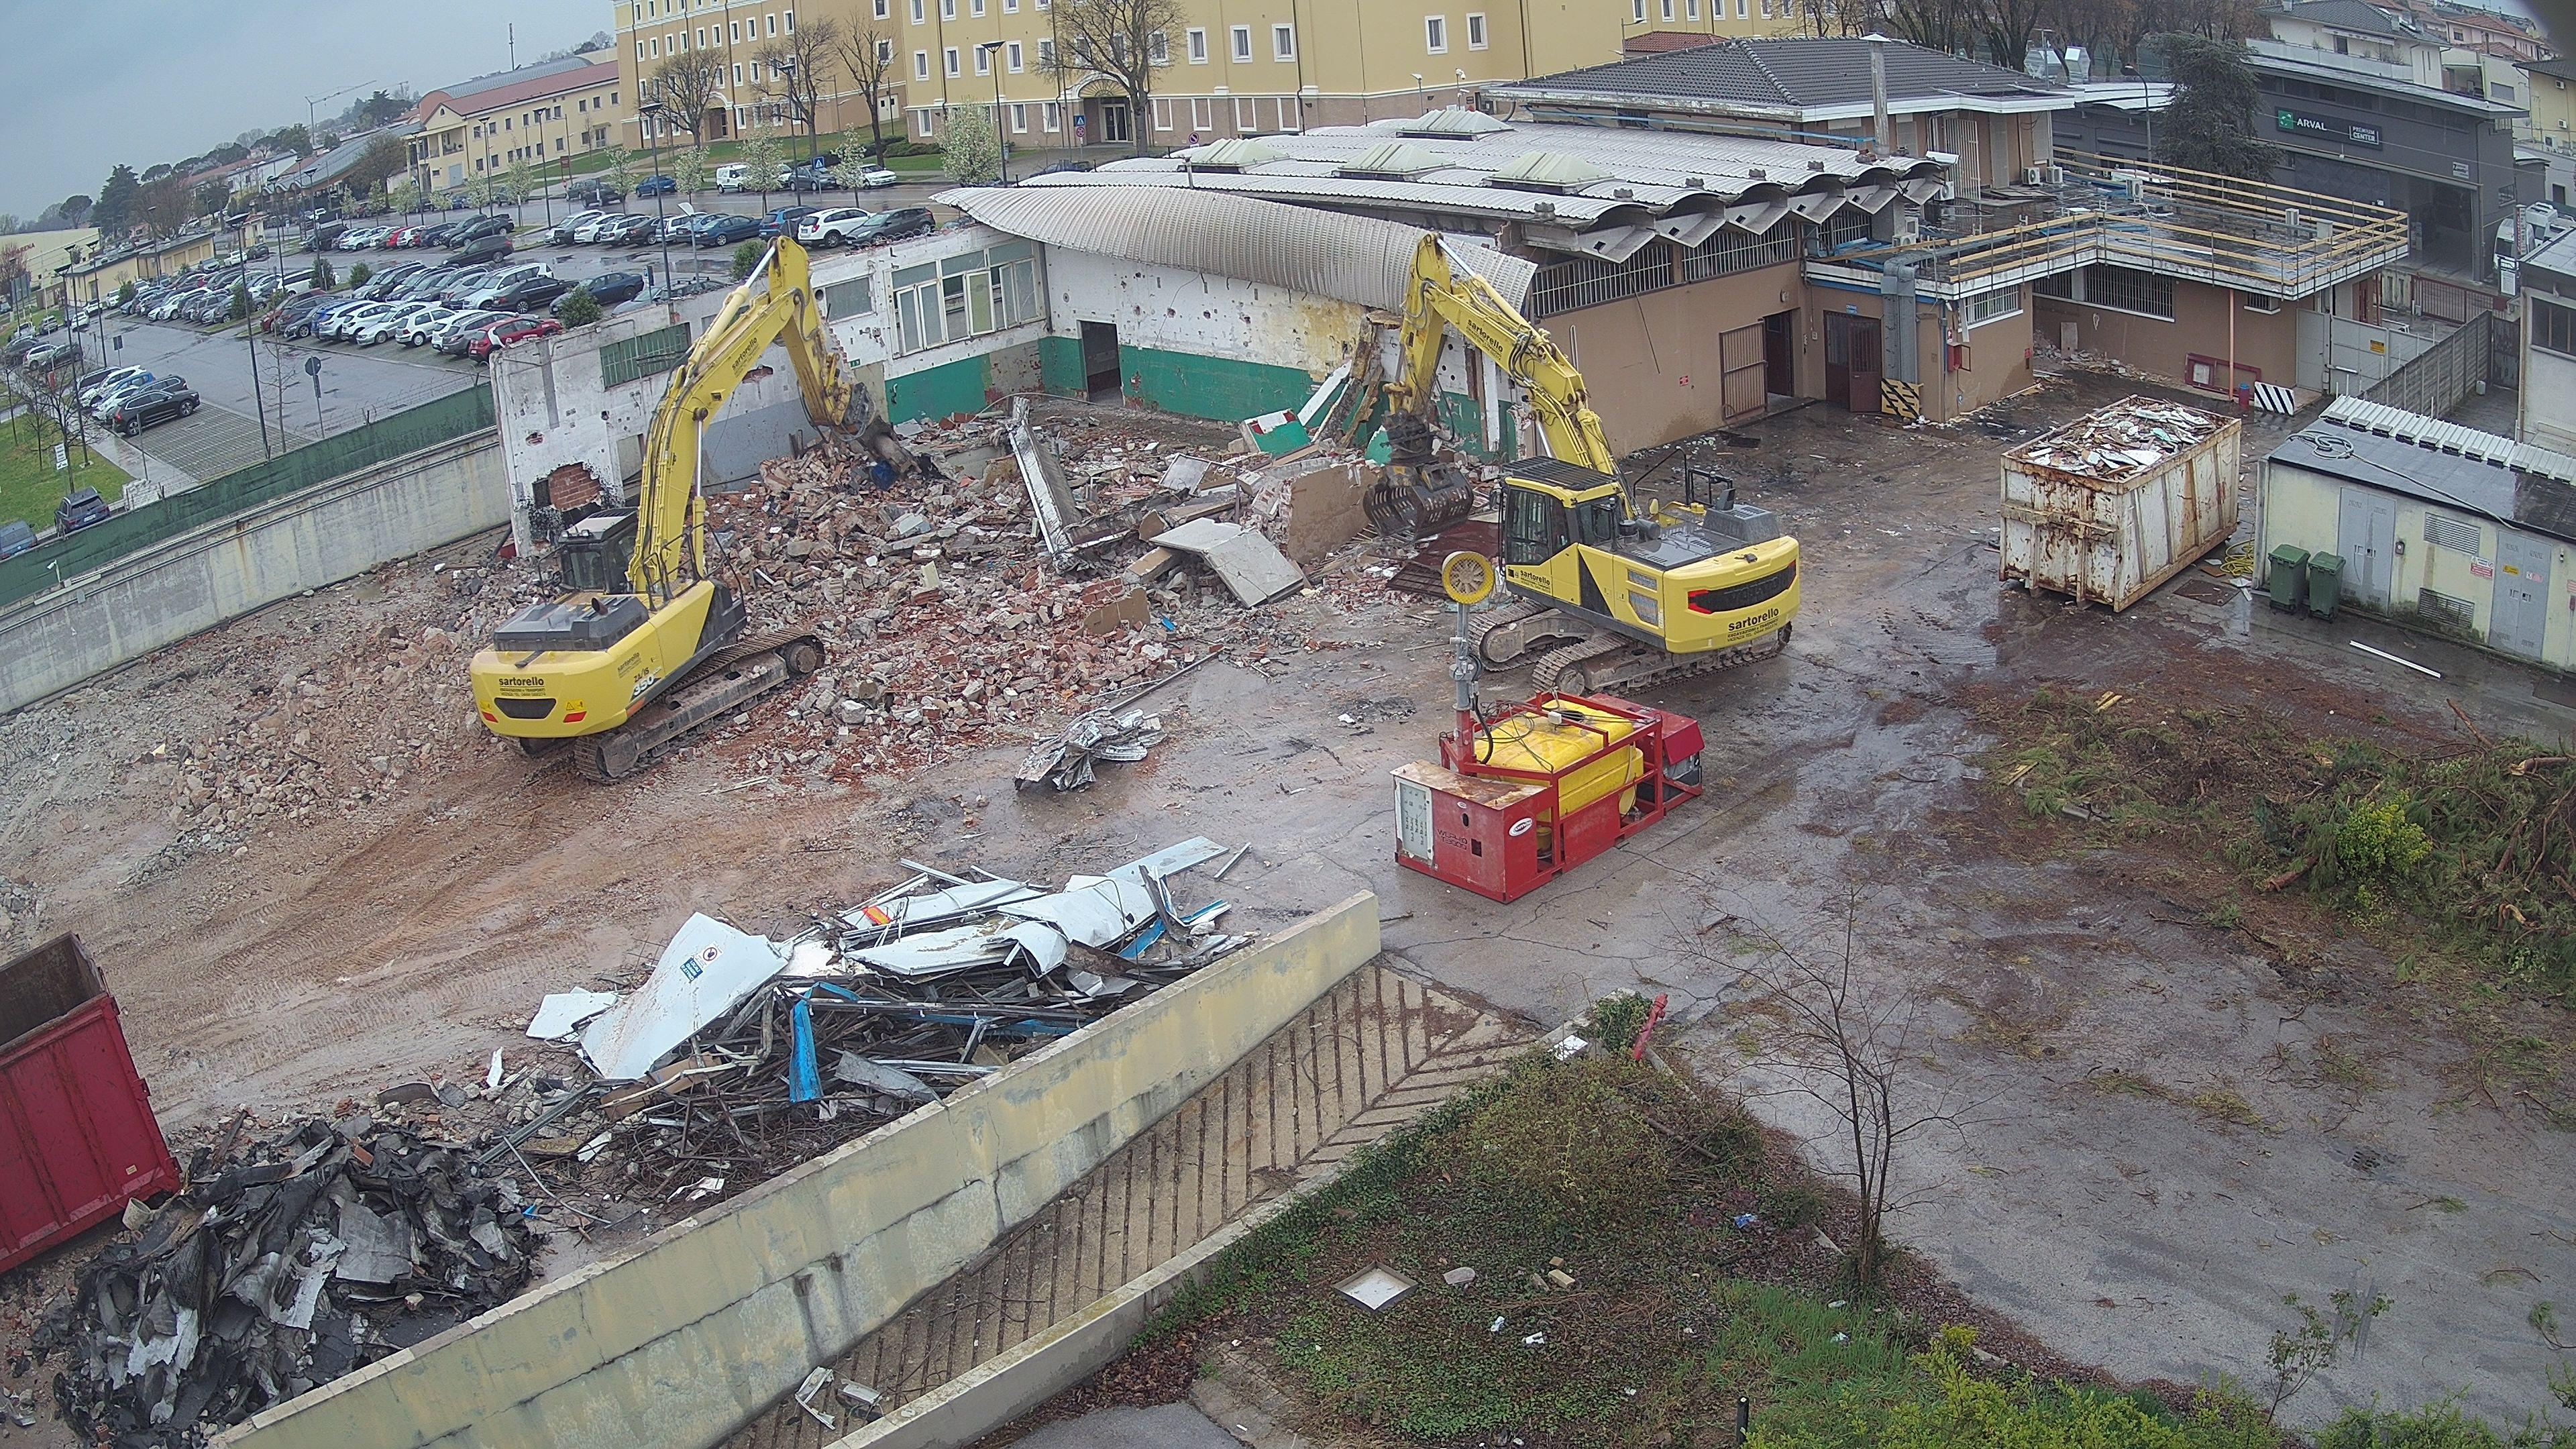Cars: (547, 271, 644, 317), (471, 315, 563, 363), (442, 311, 538, 356), (111, 389, 200, 435), (356, 301, 444, 345), (846, 207, 934, 248), (796, 207, 878, 249), (53, 487, 111, 536), (395, 308, 471, 345), (340, 303, 403, 340), (442, 235, 515, 267), (694, 214, 764, 246), (759, 207, 819, 244), (449, 218, 517, 246), (786, 165, 842, 191), (37, 341, 83, 373), (715, 163, 755, 193), (580, 180, 625, 207), (23, 345, 58, 372), (635, 173, 674, 196), (223, 249, 248, 269), (196, 257, 219, 274), (246, 242, 269, 260), (71, 311, 90, 331), (39, 315, 58, 334), (83, 299, 103, 315)
excavator: (469, 235, 924, 782), (1362, 228, 1801, 706)
